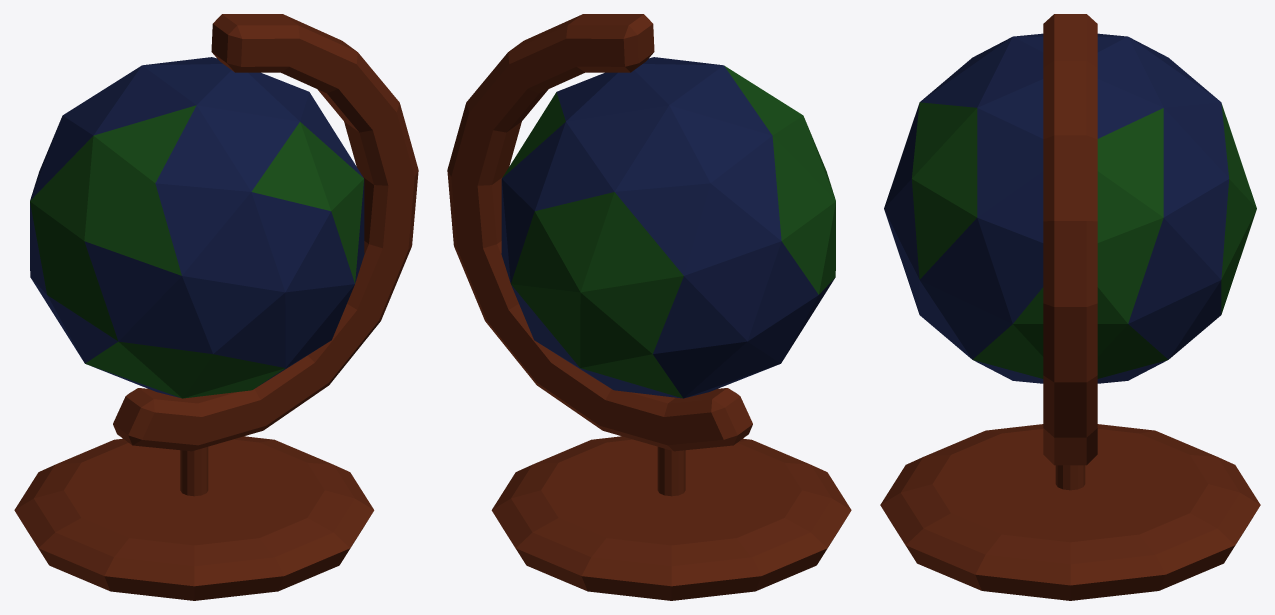
Rendered from hh_globe.glb.
3 views of the same model, side by side, from view 1: azimuth 30°, elevation 25°; view 2: azimuth 150°, elevation 25°; view 3: azimuth 270°, elevation 25° (orthographic). The views are drawn at different scales.
Visible parts, largest first — view 1: Globe; view 2: Globe; view 3: Globe.
Boxes of the visible parts, box(x1,y1,x2,y2) form: Globe: box(14, 14, 418, 600); Globe: box(447, 14, 851, 600); Globe: box(880, 14, 1260, 600).
Size of the model in its own units: 0.3311 by 0.4262 by 0.2772.
